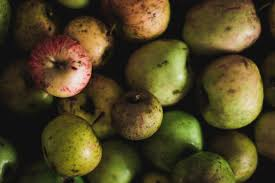damaged_apple: (201, 58, 265, 131), (127, 41, 188, 107), (62, 76, 125, 139), (45, 113, 102, 174), (190, 4, 259, 51), (114, 85, 167, 140), (61, 19, 116, 67), (174, 151, 234, 181), (120, 1, 169, 37)
